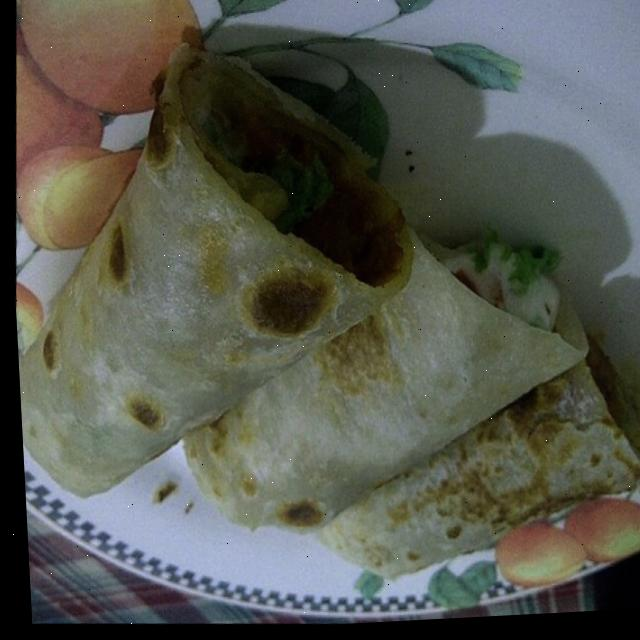面包点心: (1, 8, 640, 620)
